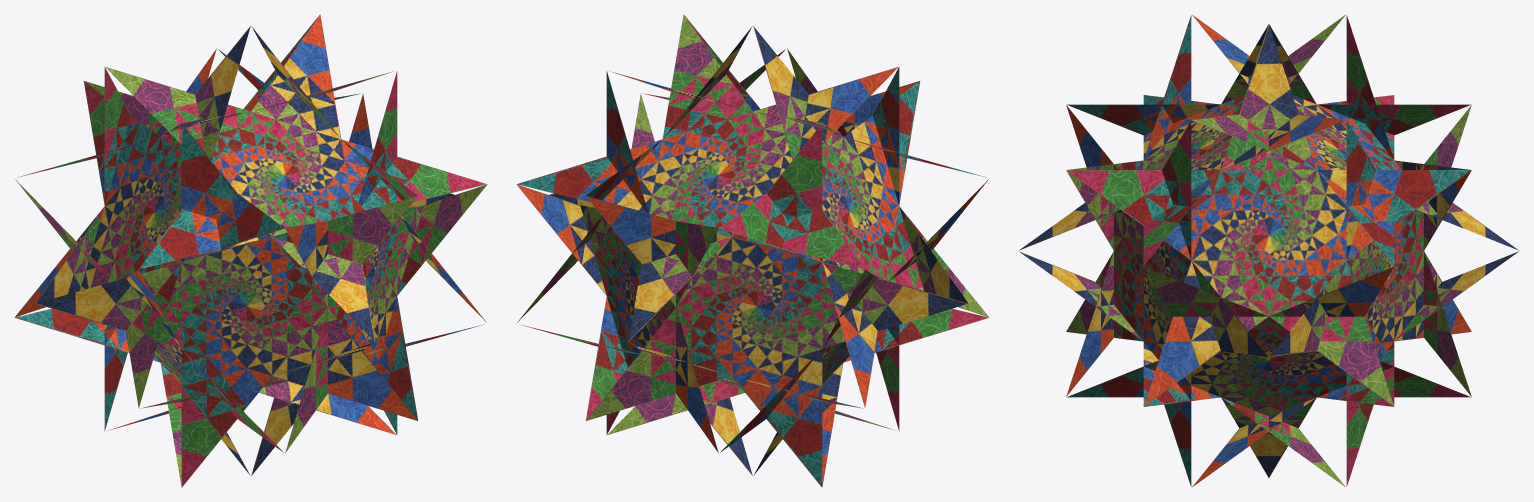
File: GreatIcosidodecahedron6.obj
The picture shows the model from 3 angles, left to right: view 1: azimuth 30°, elevation 25°; view 2: azimuth 150°, elevation 25°; view 3: azimuth 270°, elevation 25°; orthographic projection.
Size of the model in its own units: 1.24 by 1.24 by 1.24.
1 material, 1 textured.
